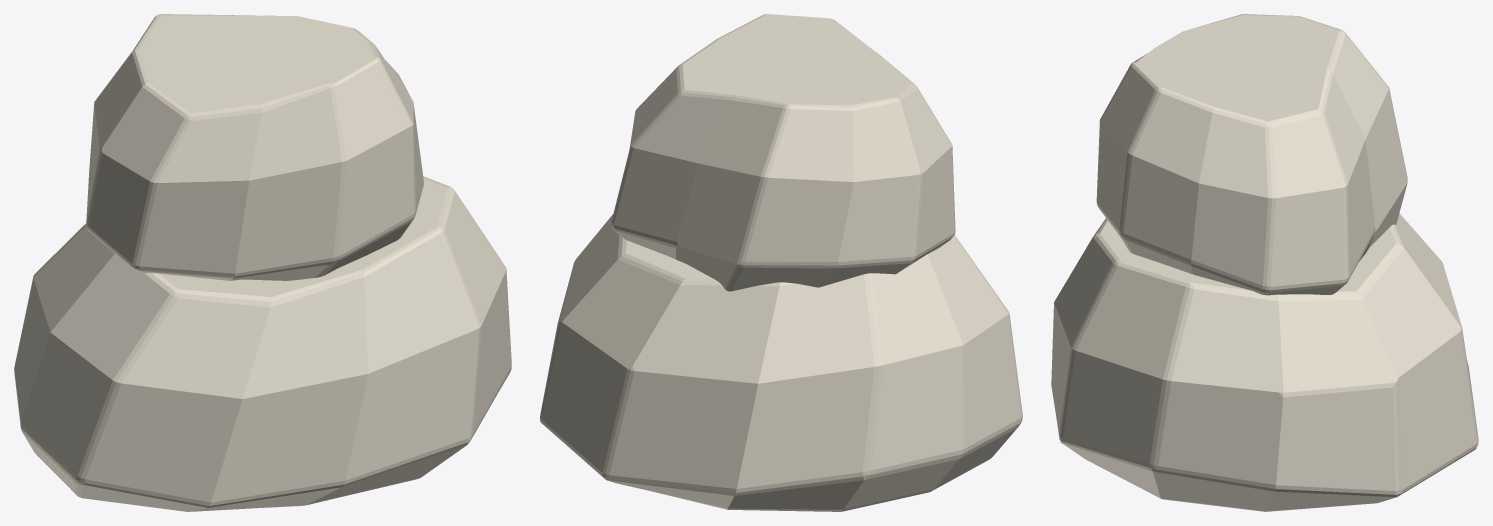
The model's file is Test_CheonRef_CairnA.fbx.
3 views of the same model, side by side, from view 1: azimuth 30°, elevation 25°; view 2: azimuth 150°, elevation 25°; view 3: azimuth 270°, elevation 25° (orthographic). The views are drawn at different scales.
Visible parts, largest first — view 1: BalancedCairnStone, BalancedCairnStone.001; view 2: BalancedCairnStone, BalancedCairnStone.001; view 3: BalancedCairnStone, BalancedCairnStone.001.
Part boxes in pixels (x1,y1,x2,y2): BalancedCairnStone: (14,176,511,511); BalancedCairnStone.001: (86,14,423,280); BalancedCairnStone: (540,214,1022,511); BalancedCairnStone.001: (611,14,955,291); BalancedCairnStone: (1051,213,1478,511); BalancedCairnStone.001: (1096,14,1407,295).
Size of the model in its own units: 138 by 119 by 124.
